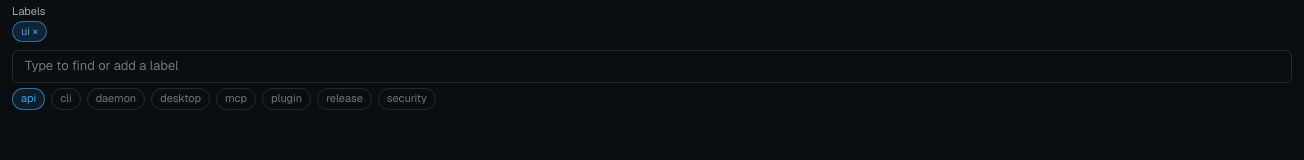
Scenario: LabelPicker › does not offer a label that is already chosen
Step 1. Type "ui" into the dropdown labelled "find or add a label" → (652, 67), box [12, 50, 1292, 83]
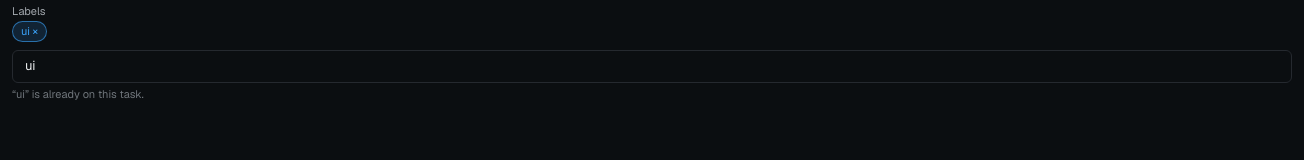
Expected: the button with aria-label "Remove ui" is shown, [12, 21, 47, 42]
Result: the option is gone
